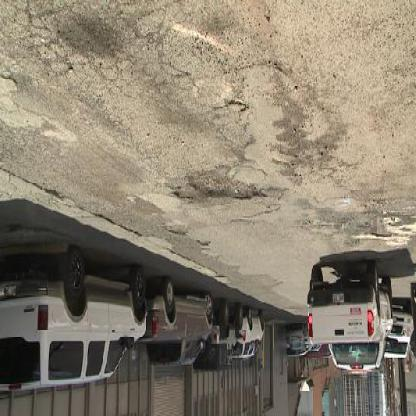pothole: (191, 176, 267, 206), (172, 184, 194, 205), (369, 231, 396, 245)
